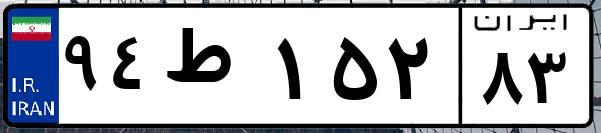1: (270, 28, 330, 110)
2: (385, 28, 445, 110)
3: (525, 38, 570, 115)
4: (110, 28, 158, 98)
5: (330, 28, 385, 110)
8: (475, 38, 525, 113)
9: (57, 26, 110, 100)
ط: (158, 20, 270, 120)
